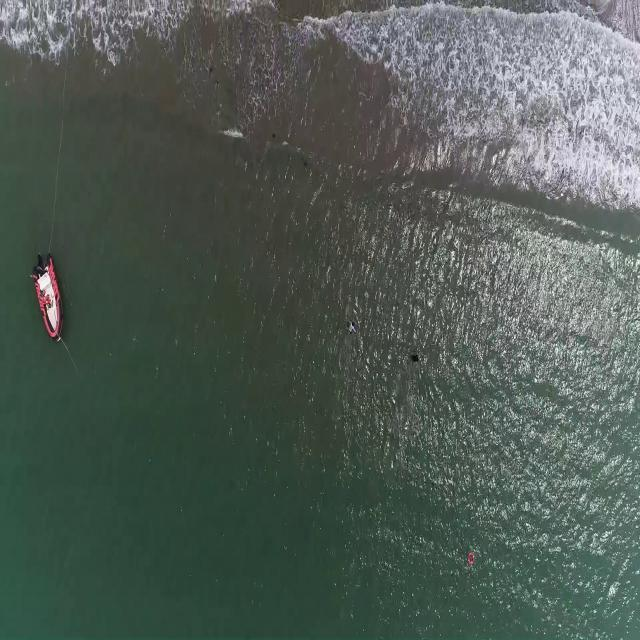boat: (32, 253, 62, 342)
life_buoy: (467, 550, 476, 565)
person: (348, 313, 361, 334), (411, 346, 420, 366)
